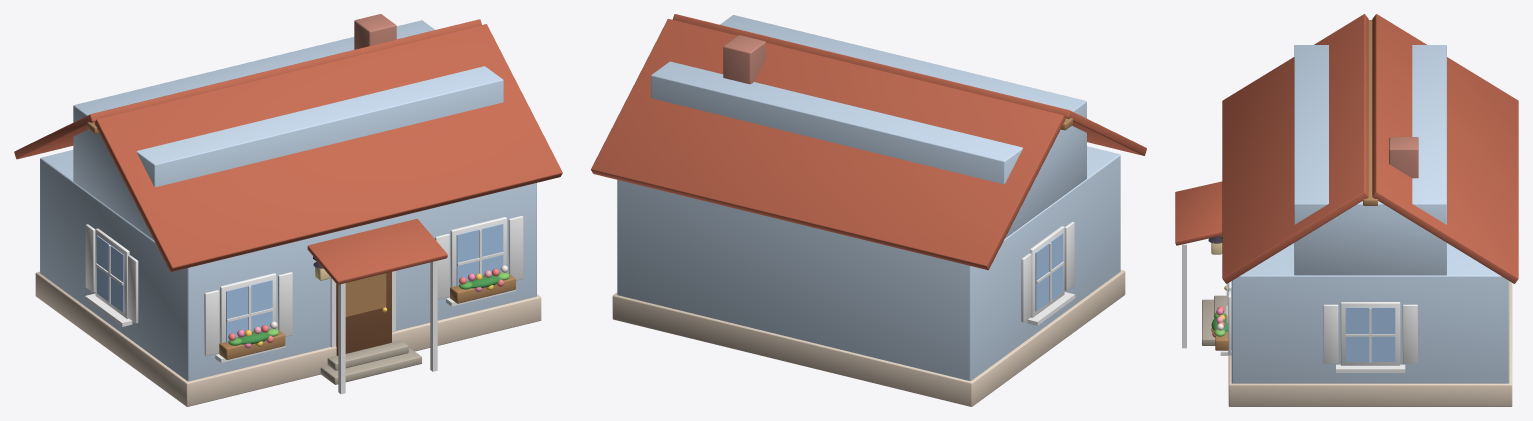
Rendered from cottage_blue.glb.
3 views of the same model, side by side, from view 1: azimuth 30°, elevation 25°; view 2: azimuth 150°, elevation 25°; view 3: azimuth 270°, elevation 25° (orthographic). The views are drawn at different scales.
Parts seen in each view (by area): view 1: cottage_blue; view 2: cottage_blue; view 3: cottage_blue.
Boxes of the visible parts, bbox=[...] form: cottage_blue: bbox=[14, 14, 562, 406]; cottage_blue: bbox=[591, 14, 1146, 406]; cottage_blue: bbox=[1175, 14, 1518, 406].
Bounding box in the file's own units: 8.6 × 5.15 × 6.93.
